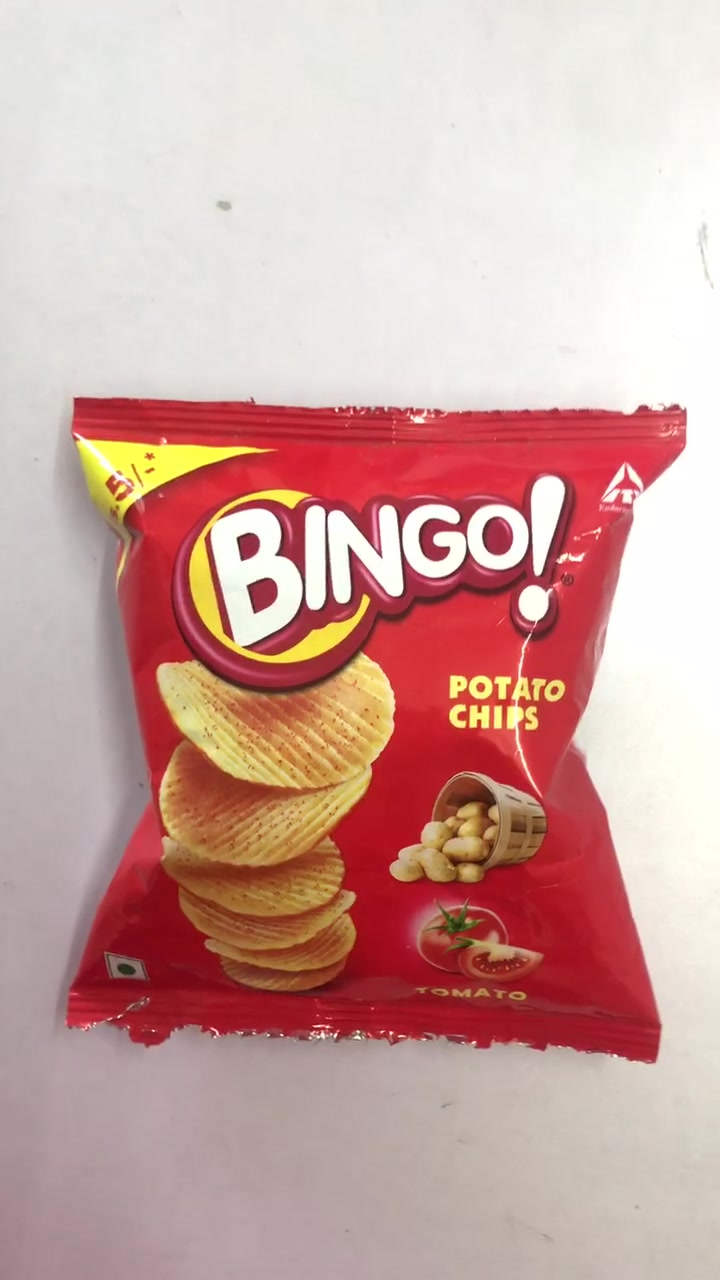Bingo: (74, 393, 674, 1063)
